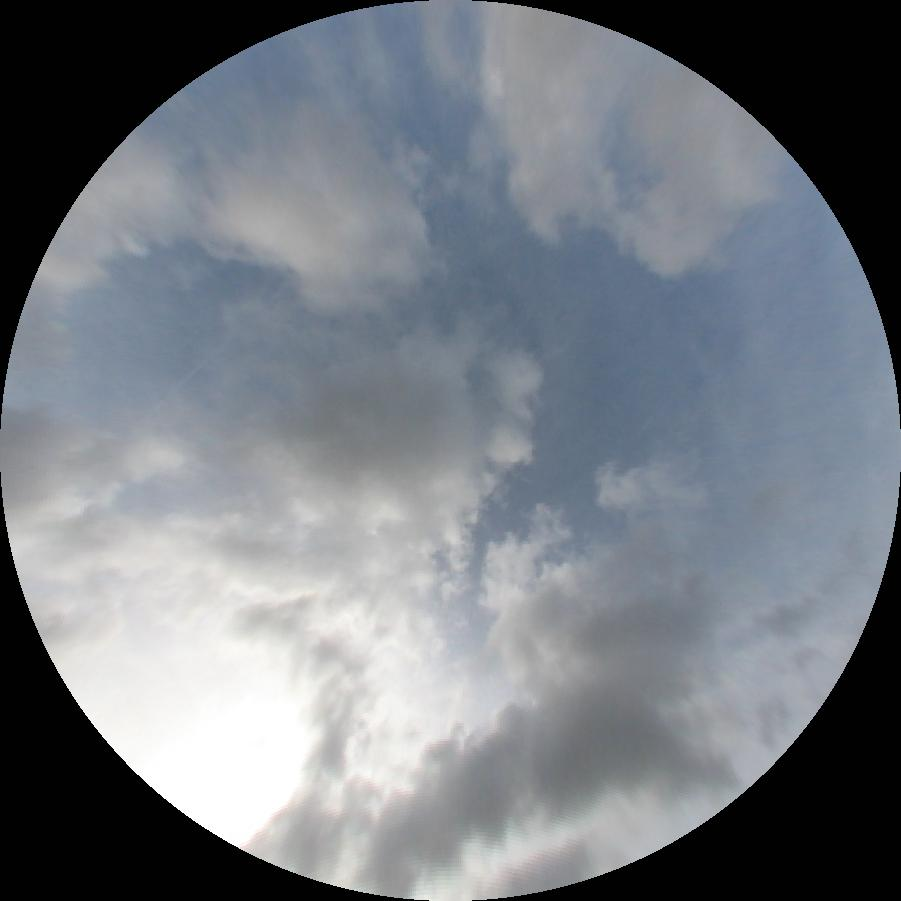contrail young: (127, 334, 234, 438)
sun: (80, 652, 298, 847)
